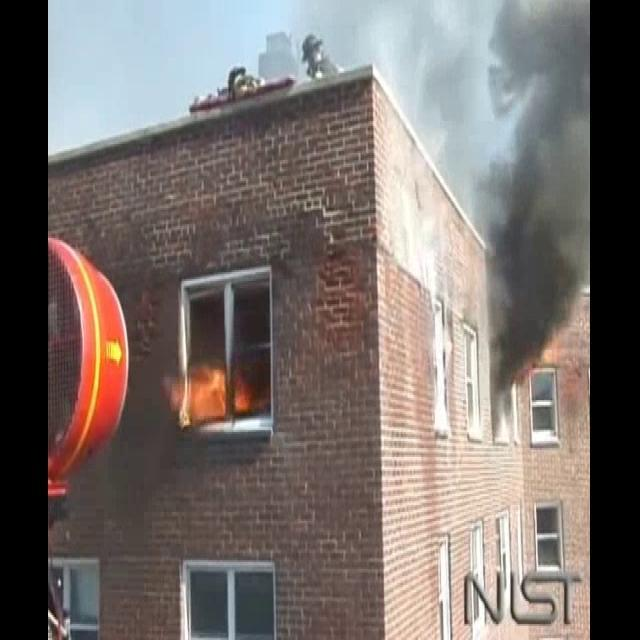Fire: (162, 348, 269, 440)
Smoke: (456, 0, 590, 443)
